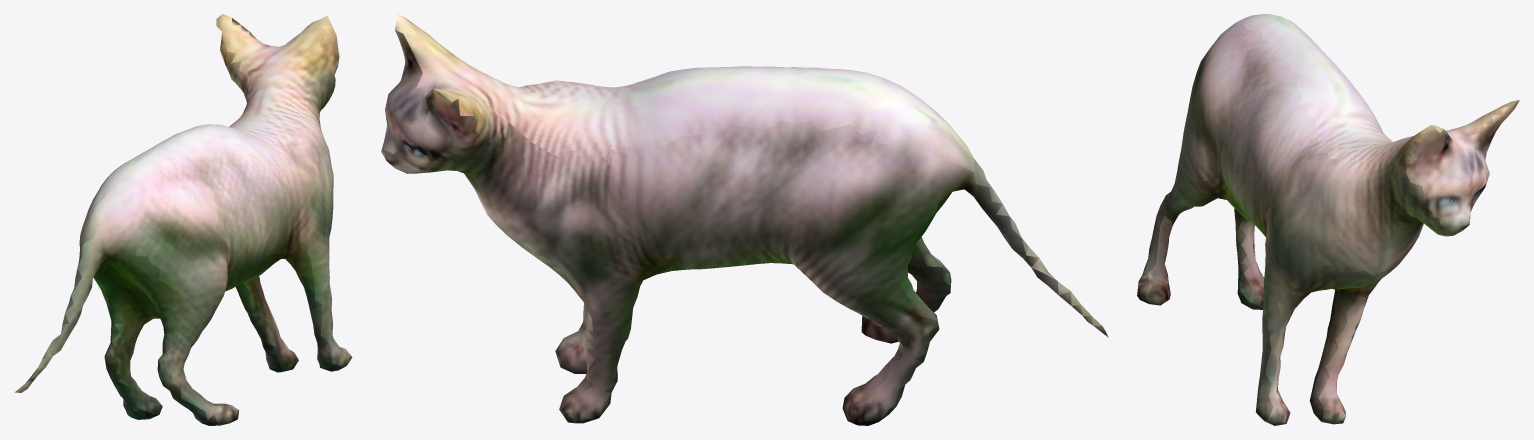
Rendered from pisica_00004_.glb.
The picture shows the model from 3 angles, left to right: view 1: azimuth 30°, elevation 25°; view 2: azimuth 150°, elevation 25°; view 3: azimuth 270°, elevation 25°; orthographic projection. The views are drawn at different scales.
Parts seen in each view (by area): view 1: world; view 2: world; view 3: world.
Part boxes in pixels (bbox=[...]): world: bbox=[15, 14, 352, 425]; world: bbox=[381, 14, 1108, 425]; world: bbox=[1137, 14, 1519, 425].
Size of the model in its own units: 0.8789 by 0.6066 by 0.6083.
Materials: 1 (1 with a texture image).
